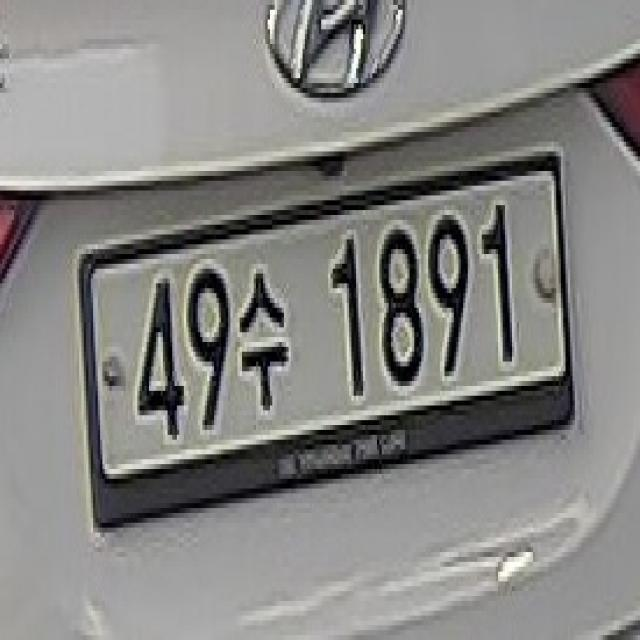1: (480, 186, 522, 371), (328, 226, 368, 404)
4: (130, 270, 184, 444)
8: (378, 216, 423, 389)
9: (186, 256, 231, 440), (429, 202, 471, 384)
license_plate: (61, 134, 583, 547)
su: (237, 252, 292, 425)
